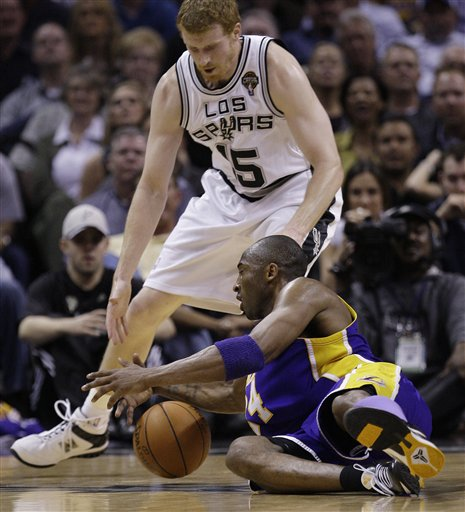10+: (1, 1, 465, 502)
down: (72, 228, 453, 492)
